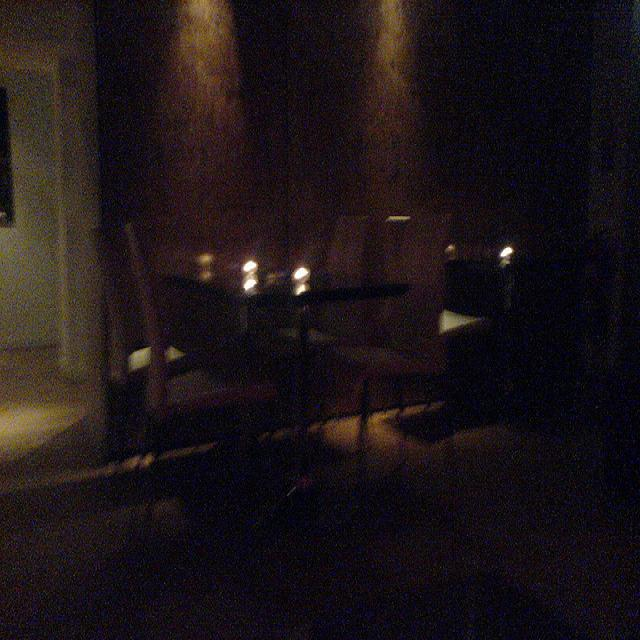Table: (177, 203, 401, 503)
chair: (73, 219, 190, 557), (355, 207, 469, 434)
